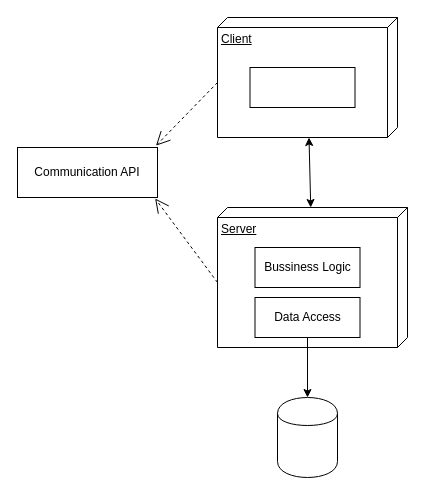
The diagram is 425 pixels wide and 495 high, and some of its shapes have lost their labels. The shapes that lost their labels are listed below. From the top down, each one's box as (x1, y1, x2, y2) in pixels, then its label:
(249, 66, 355, 108): MVC
(276, 396, 338, 478): Playlist Generator DB
